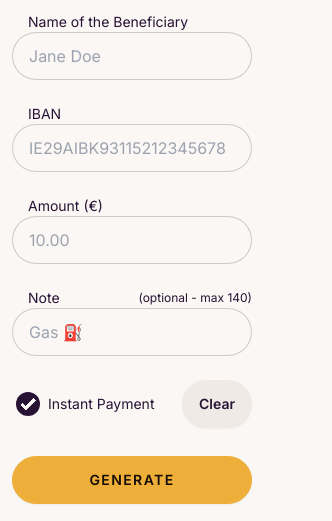
Test: GeneratorForm › remittance form field › shows error on input too long
Note: Enter too many characters in the beneficiary field
In the field labelled "Note (optional - max 140)": (132, 332) 12,308 -> 252,356, type "Lorem ipsum dolor sit amet consectetur adipisicing elit. Incidunt cum voluptatem perspiciatis unde voluptates optio minus? Non quae iste nam."
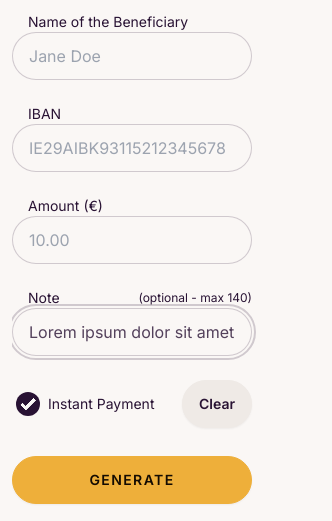
Note: Submit the form with too long input
Click the button "GENERATE": (132, 480) 12,456 -> 252,504
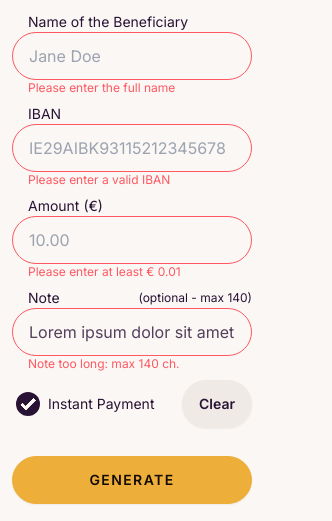
Result: the text "Note too long: max 140 ch." is shown at 28,356 -> 180,371
